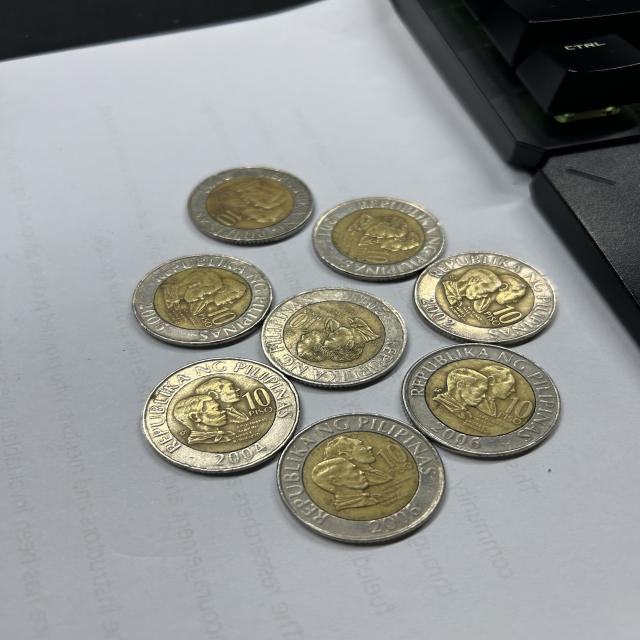10_Old_Front: (377, 442, 410, 464), (505, 396, 538, 417), (494, 304, 524, 325), (208, 304, 238, 324), (243, 388, 272, 407), (289, 313, 314, 332), (364, 247, 390, 265), (217, 210, 244, 227)
